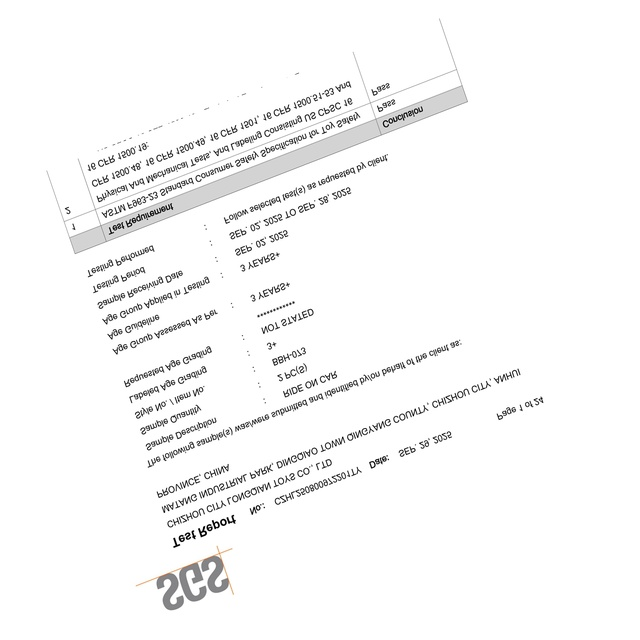sgs: (157, 556, 229, 611)
